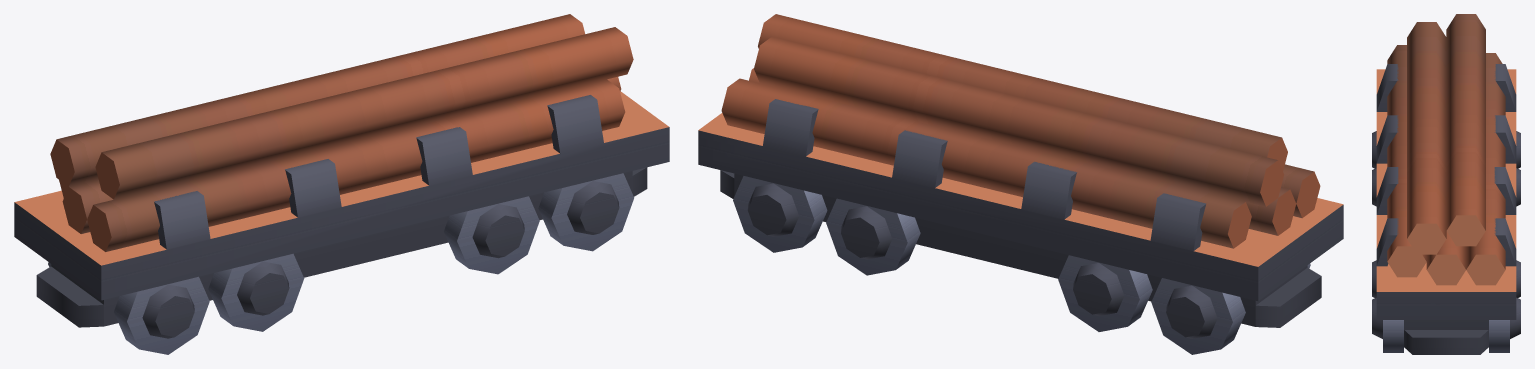
Rendered from train-wagon-logs.glb.
3 views of the same model, side by side, from view 1: azimuth 30°, elevation 25°; view 2: azimuth 150°, elevation 25°; view 3: azimuth 270°, elevation 25° (orthographic). The views are drawn at different scales.
Visible parts, largest first — view 1: train-wagon-logs; view 2: train-wagon-logs; view 3: train-wagon-logs.
Boxes of the visible parts, x1=… form: train-wagon-logs: x1=14, y1=14, x2=669, y2=354; train-wagon-logs: x1=698, y1=14, x2=1343, y2=354; train-wagon-logs: x1=1372, y1=14, x2=1520, y2=354.
Bounding box in the file's own units: 0.6914 × 0.2168 × 0.1949.
Materials: 1 (1 with a texture image).
